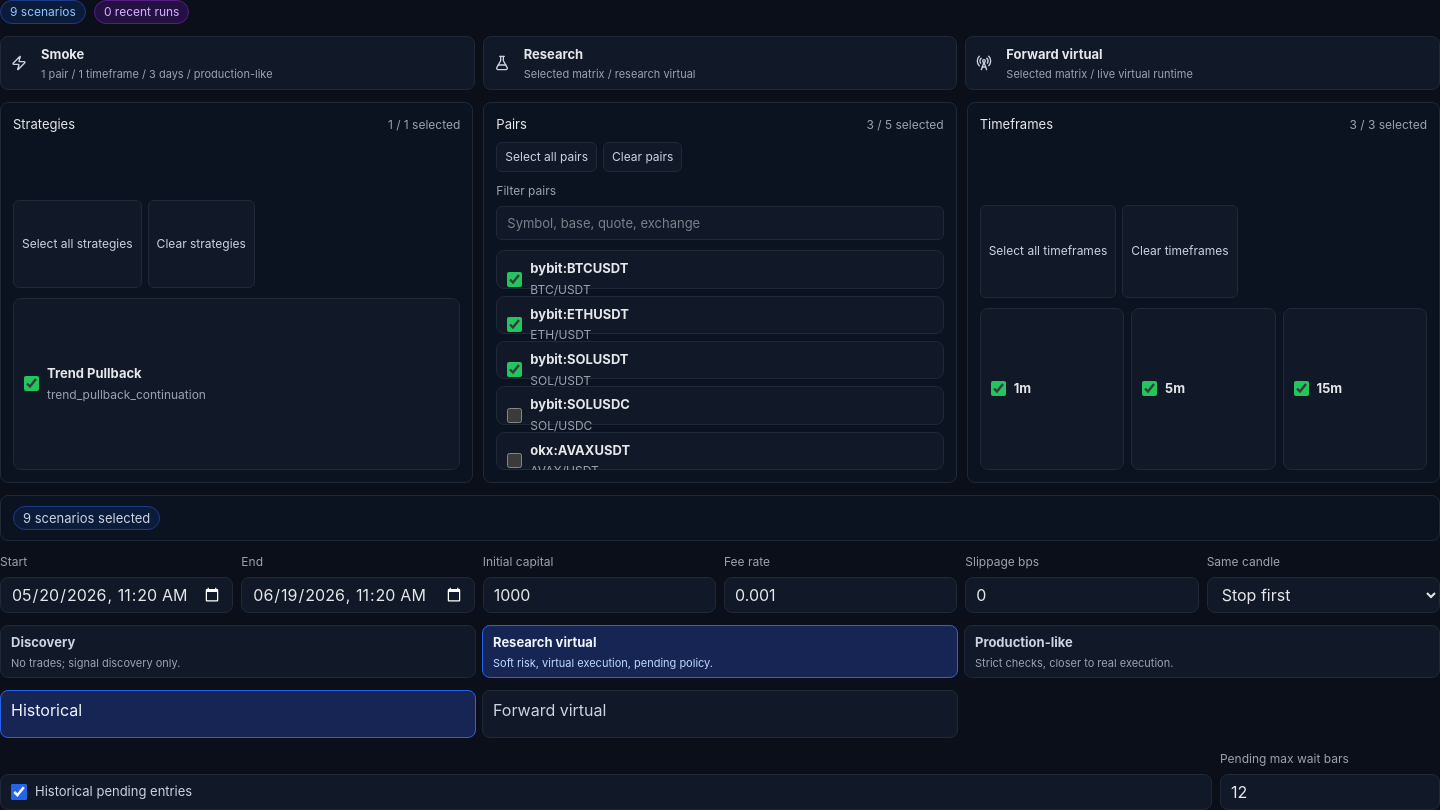
Test: StrategyTestingPanel › filters pairs and selects only visible filtered pairs
Click the button "Clear pairs". click: (643, 157)
box: [603,142,682,172]
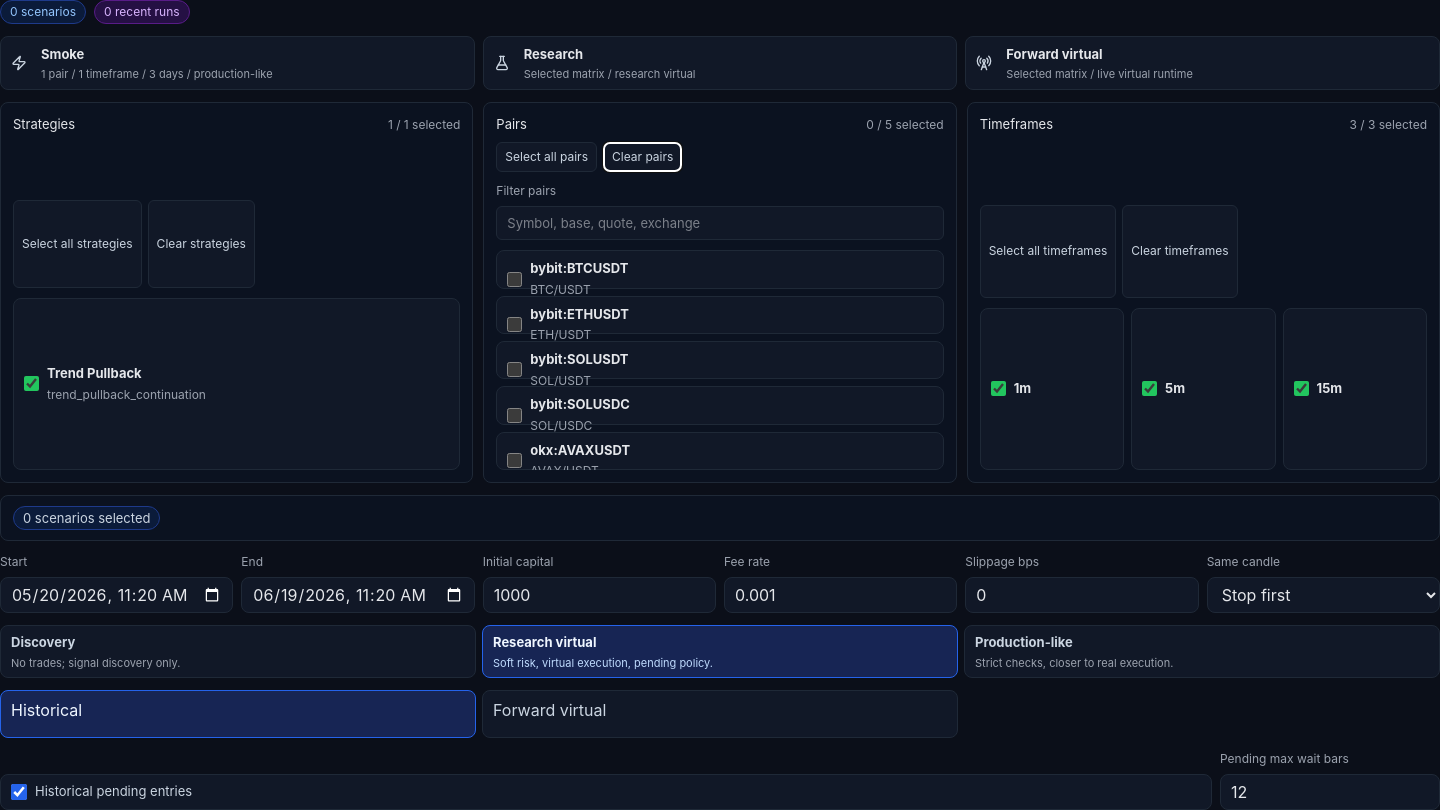
Type "sol" into the search field labelled "Filter pairs". click: (720, 223)
box: [496,206,944,240]
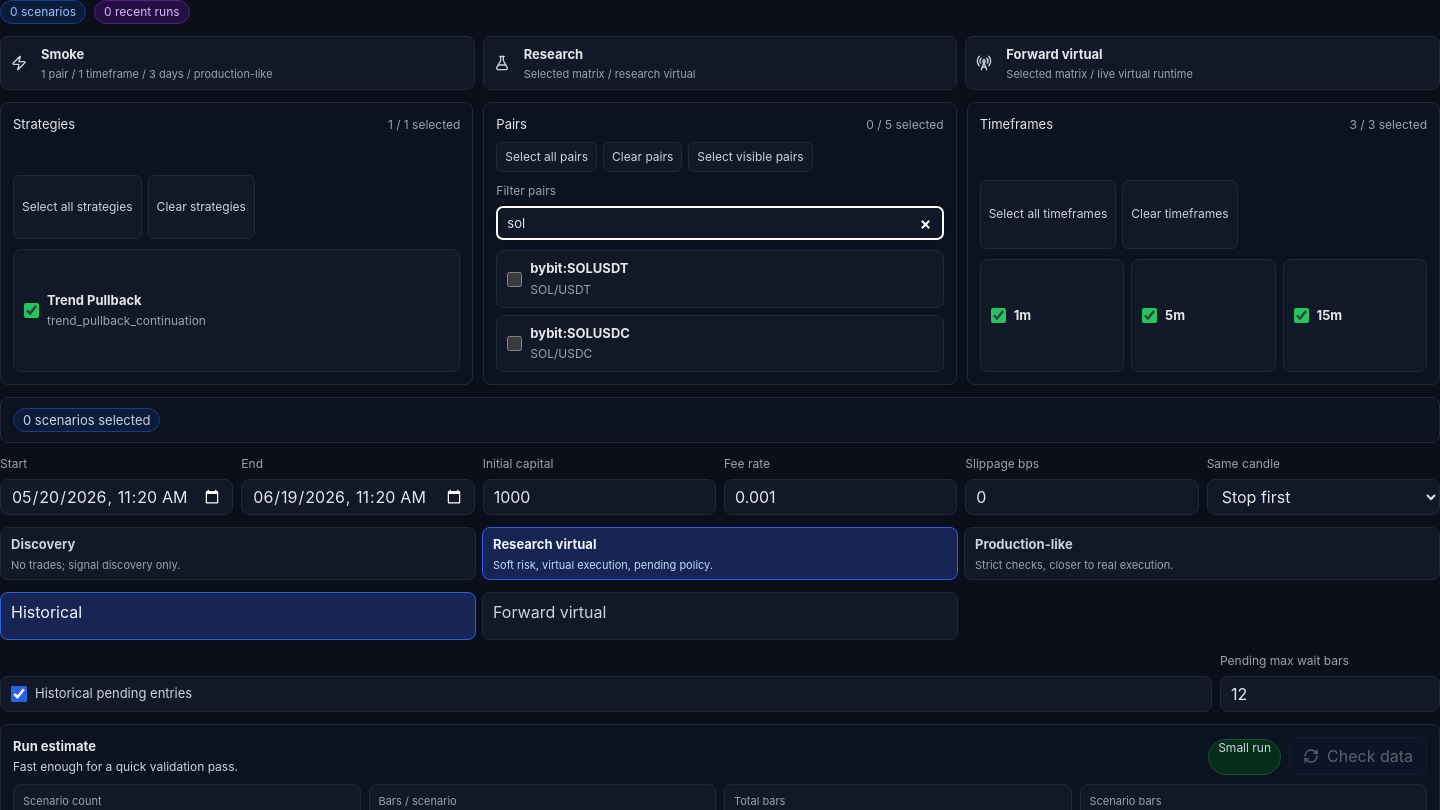
Expected: the checkbox labelled "bybit:SOLUSDT SOL/USDT" is shown, [507,272,522,286]
Expected: the text "BTCUSDT" is gone
Click the button "Select visible pairs". click: (750, 157)
box: [688,142,813,172]
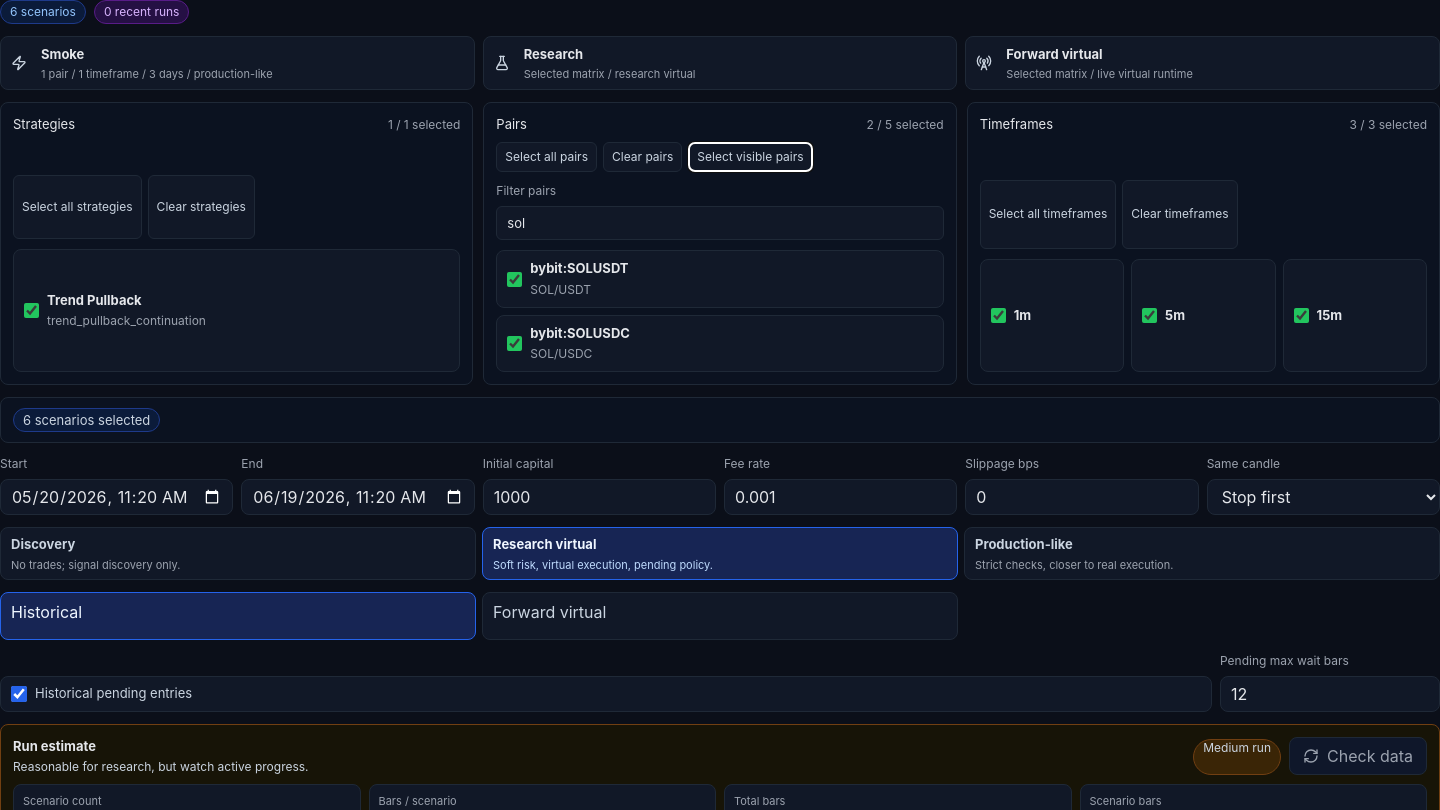
Clear the search field labelled "Filter pairs". click: (720, 223)
box: [496,206,944,240]
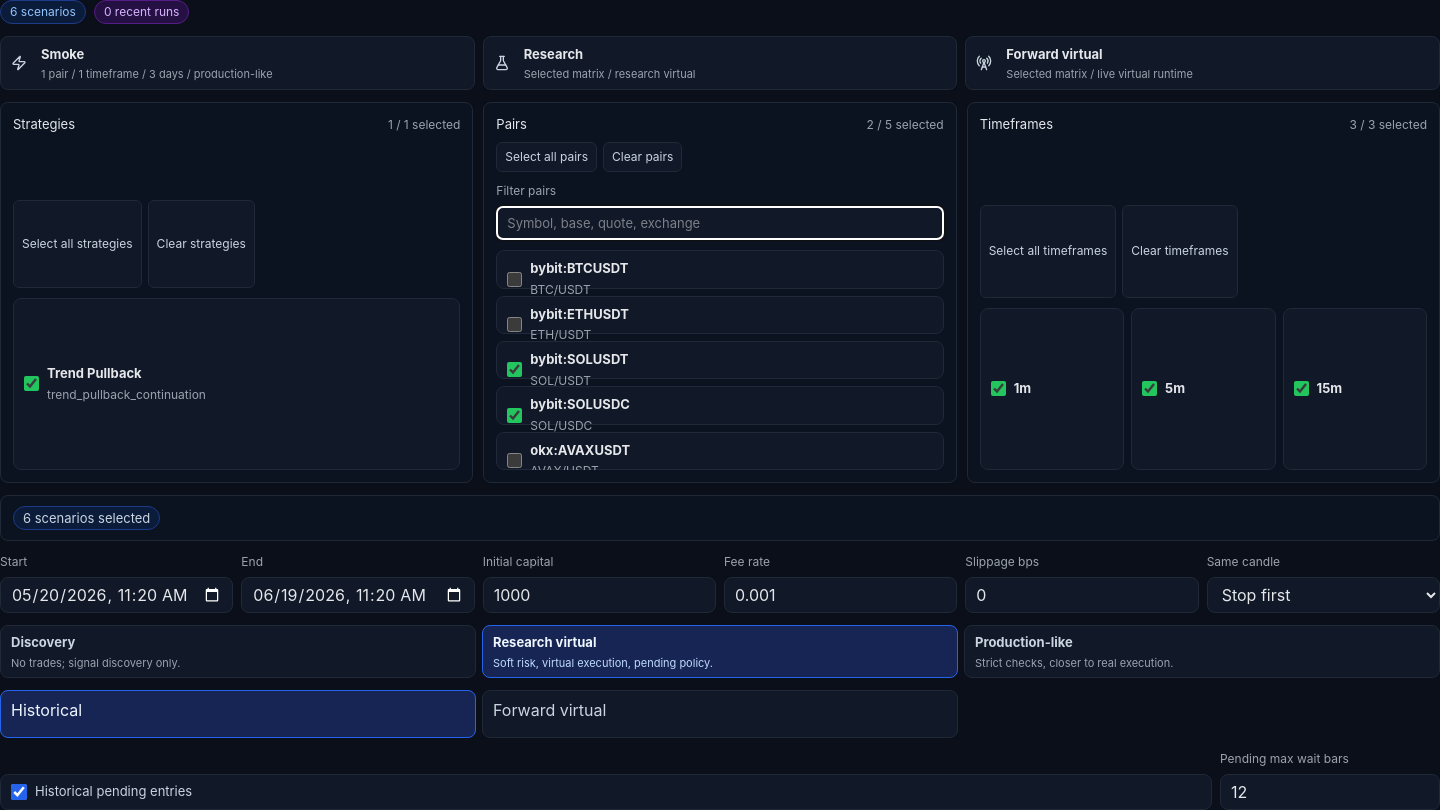
Expected: the checkbox labelled "bybit:SOLUSDT SOL/USDT" is checked, [507,362,522,377]
Expected: the checkbox labelled "bybit:BTCUSDT BTC/USDT" is not checked, [507,272,522,286]
Expected: the checkbox labelled "bybit:ETHUSDT ETH/USDT" is not checked, [507,317,522,332]
